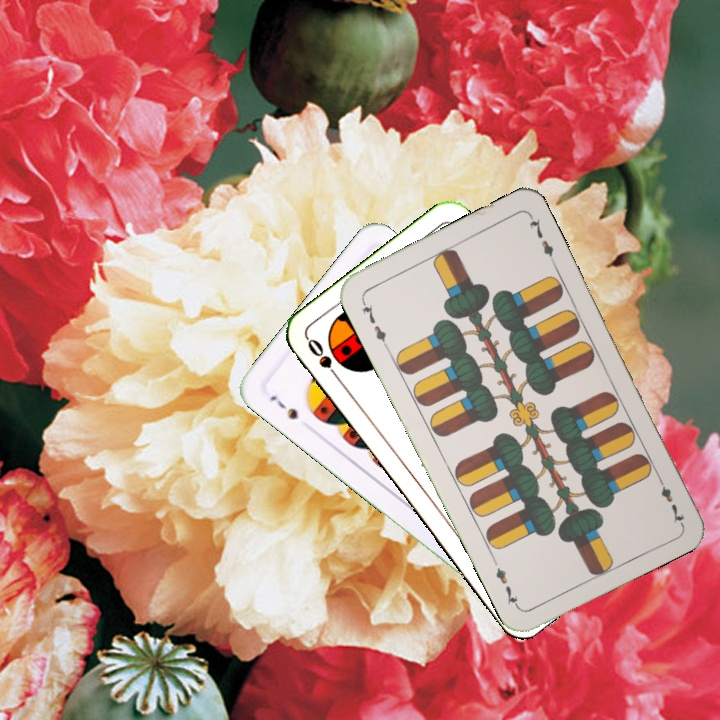E7: (653, 471, 687, 527), (357, 295, 390, 351)
S7: (265, 391, 301, 423)
SO: (303, 334, 345, 385)
